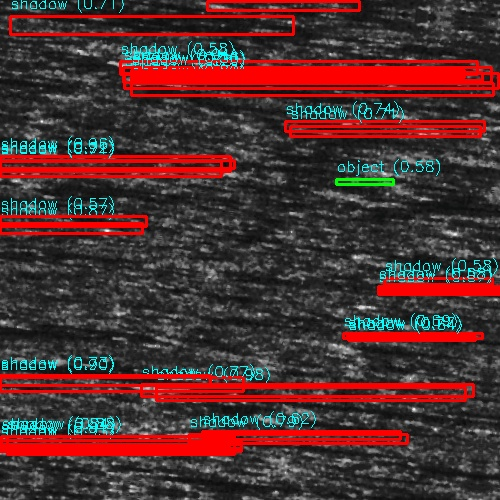rock: (56, 61, 161, 86), (165, 0, 258, 13), (100, 84, 183, 95), (311, 177, 394, 188), (375, 256, 438, 267), (116, 389, 199, 396), (175, 434, 238, 441), (115, 478, 188, 483), (327, 331, 368, 336), (0, 442, 15, 453), (271, 406, 282, 415), (364, 290, 385, 293)
shadow: (109, 61, 454, 86), (142, 84, 492, 95), (0, 157, 230, 170), (0, 442, 248, 453), (158, 389, 460, 396), (212, 0, 353, 13), (353, 177, 500, 188), (0, 28, 122, 41), (207, 434, 390, 441), (0, 385, 236, 390), (0, 216, 129, 225), (277, 406, 402, 415), (407, 256, 500, 267), (152, 478, 330, 483), (0, 345, 80, 356), (348, 331, 478, 336), (375, 290, 500, 293), (0, 454, 42, 459), (0, 79, 16, 90)
